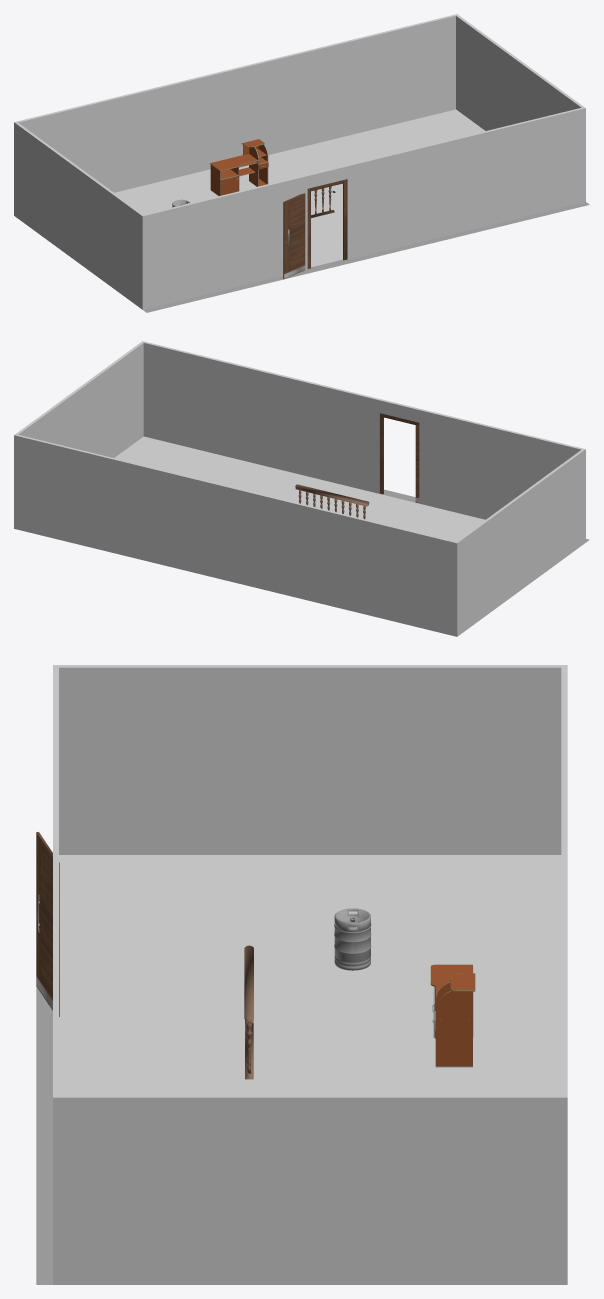
File: hull.obj
The picture shows the model from 3 angles, top to bottom: view 1: azimuth 30°, elevation 25°; view 2: azimuth 150°, elevation 25°; view 3: azimuth 270°, elevation 25°; orthographic projection. The views are drawn at different scales.
Visible parts, largest first — view 1: wall_2_10, wall_4_23, wall_3_16, room_5_26, wall_1_5, ground_1, Desk_desk_main_27, sweethome3d_opening_on_hinge_1_Leaf_Side_B_front_6_51, wall_2_12, wall_4_24, wall_2_13, wall_4_25 (+1 smaller); view 2: wall_4_22, wall_2_11, wall_3_16, room_5_26, wall_1_5, wall_4_24, wall_2_12, wall_4_25, wall_2_13, main_38, 43, 37; view 3: room_5_26, wall_1_4, wall_3_17, ground_1, Desk_desk_main_27, sweethome3d_opening_on_hinge_1_Leaf_Side_B_front_6_51, Mesh_40, wall_4_24, wall_4_25, wall_2_12, wall_2_13, wall_1_6 (+3 smaller).
Part boxes in pixels (x1,y1,x2,y2): wall_2_10: [142, 108, 585, 309]; wall_4_23: [18, 16, 455, 192]; wall_3_16: [14, 122, 142, 309]; room_5_26: [114, 109, 485, 267]; wall_1_5: [456, 16, 581, 130]; ground_1: [143, 202, 589, 312]; Desk_desk_main_27: [210, 139, 268, 195]; sweethome3d_opening_on_hinge_1_Leaf_Side_B_front_6_51: [284, 193, 305, 279]; wall_2_12: [143, 108, 584, 215]; wall_4_24: [14, 14, 456, 122]; wall_2_13: [143, 107, 582, 215]; wall_4_25: [17, 15, 456, 122]; wall_4_22: [14, 435, 457, 636]; wall_2_11: [143, 343, 580, 519]; wall_3_16: [457, 449, 585, 636]; room_5_26: [114, 436, 485, 541]; wall_1_5: [18, 343, 143, 457]; wall_4_24: [15, 435, 456, 543]; wall_2_12: [143, 341, 585, 449]; wall_4_25: [17, 434, 455, 542]; wall_2_13: [143, 342, 582, 449]; main_38: [295, 484, 369, 506]; 43: [379, 413, 383, 494]; 37: [298, 490, 365, 519]; room_5_26: [59, 855, 561, 1094]; wall_1_4: [53, 1097, 567, 1284]; wall_3_17: [59, 667, 561, 854]; ground_1: [36, 986, 52, 1284]; Desk_desk_main_27: [431, 965, 475, 1066]; sweethome3d_opening_on_hinge_1_Leaf_Side_B_front_6_51: [36, 832, 52, 1010]; Mesh_40: [334, 908, 371, 970]; wall_4_24: [564, 665, 567, 1097]; wall_4_25: [561, 667, 564, 1095]; wall_2_12: [53, 665, 55, 1097]; wall_2_13: [56, 666, 58, 1096]; wall_1_6: [53, 1096, 566, 1097].
Size of the model in its own units: 1239 by 250 by 643.
21 materials, 7 textured.
